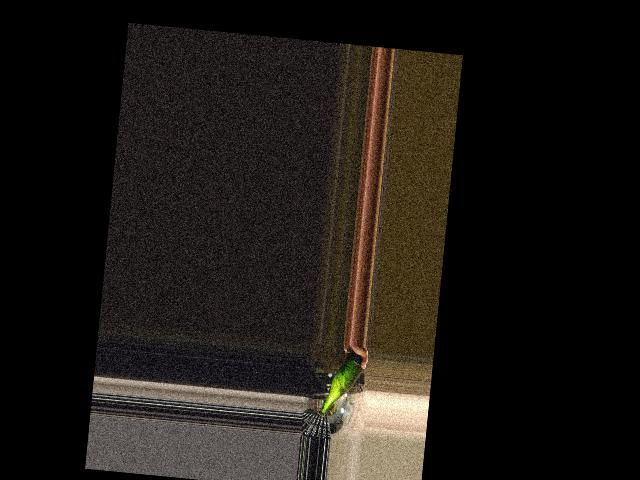beer: (316, 349, 366, 420)
